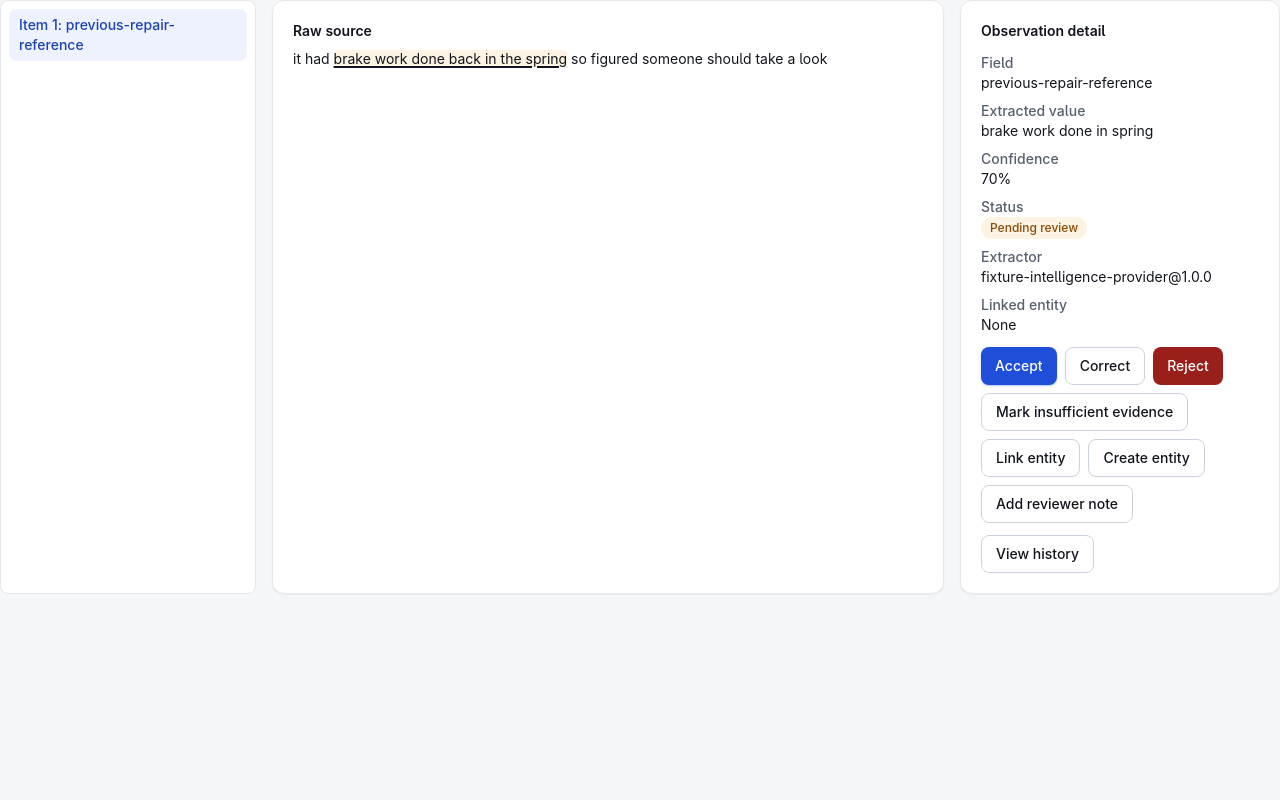
it: ReviewQueuePanel › Link entity searches the workspace's entities and links the selected one without advancing the queue
Click the button "Link entity" at (1031, 458), box [981,439,1080,477]
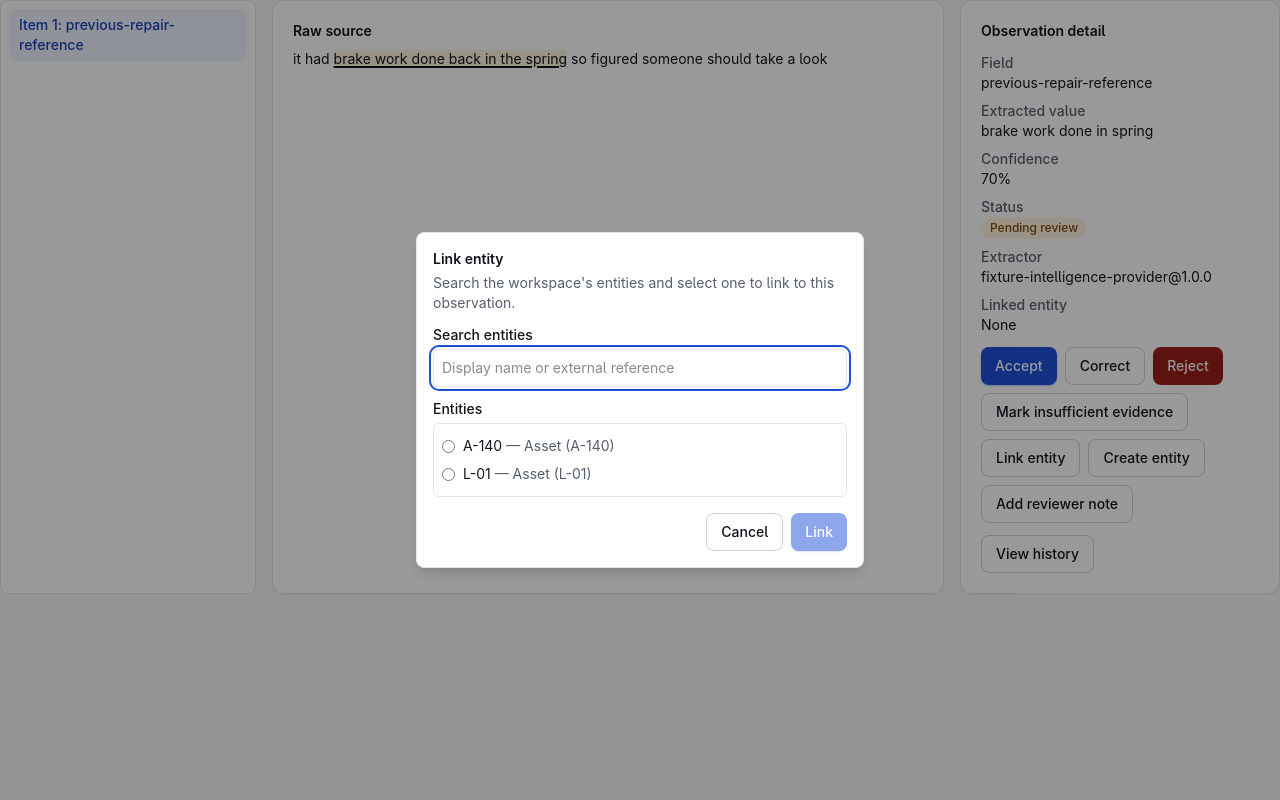
Type "A-140" into the field labelled "Search entities" at (640, 368), box [433,349,847,387]
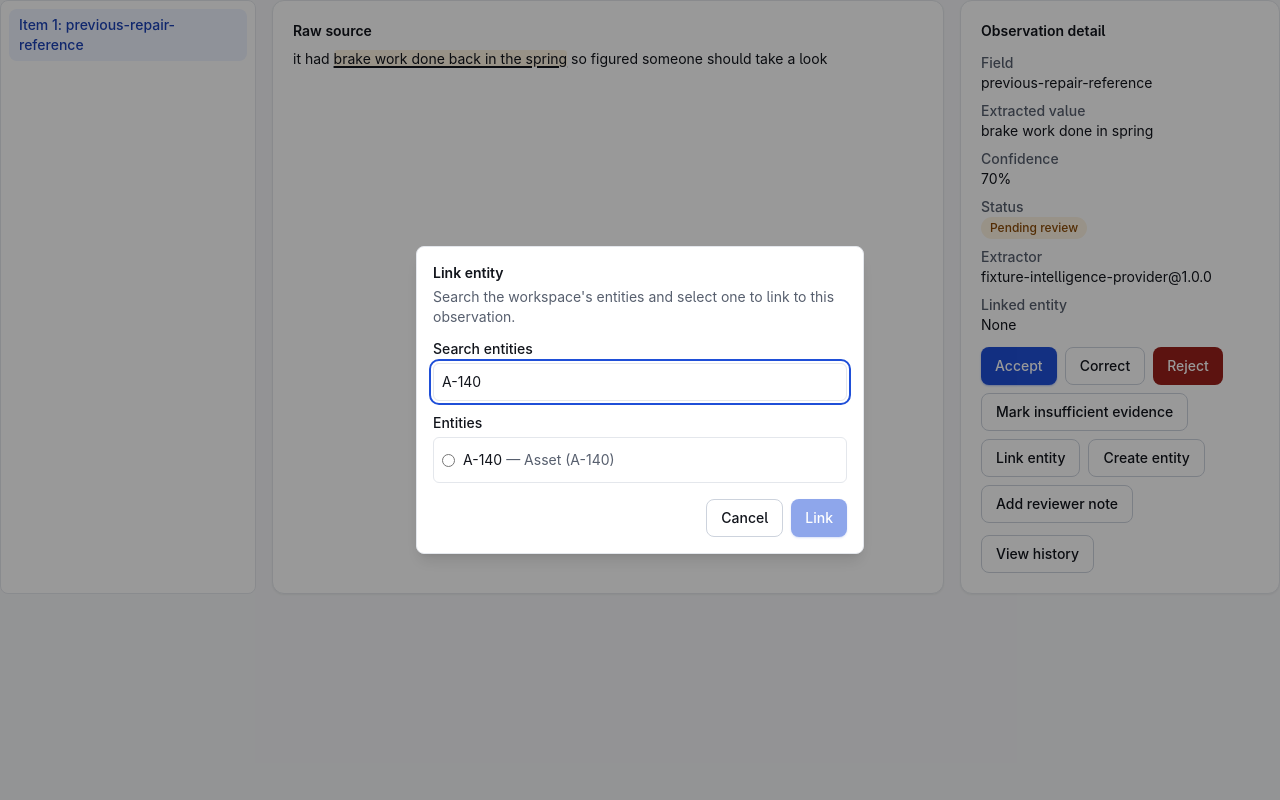
expect the text "L-01" is gone: met
Click the radio button labelled "A-140 — Asset (A-140)" at (448, 460), box [442,454,455,466]
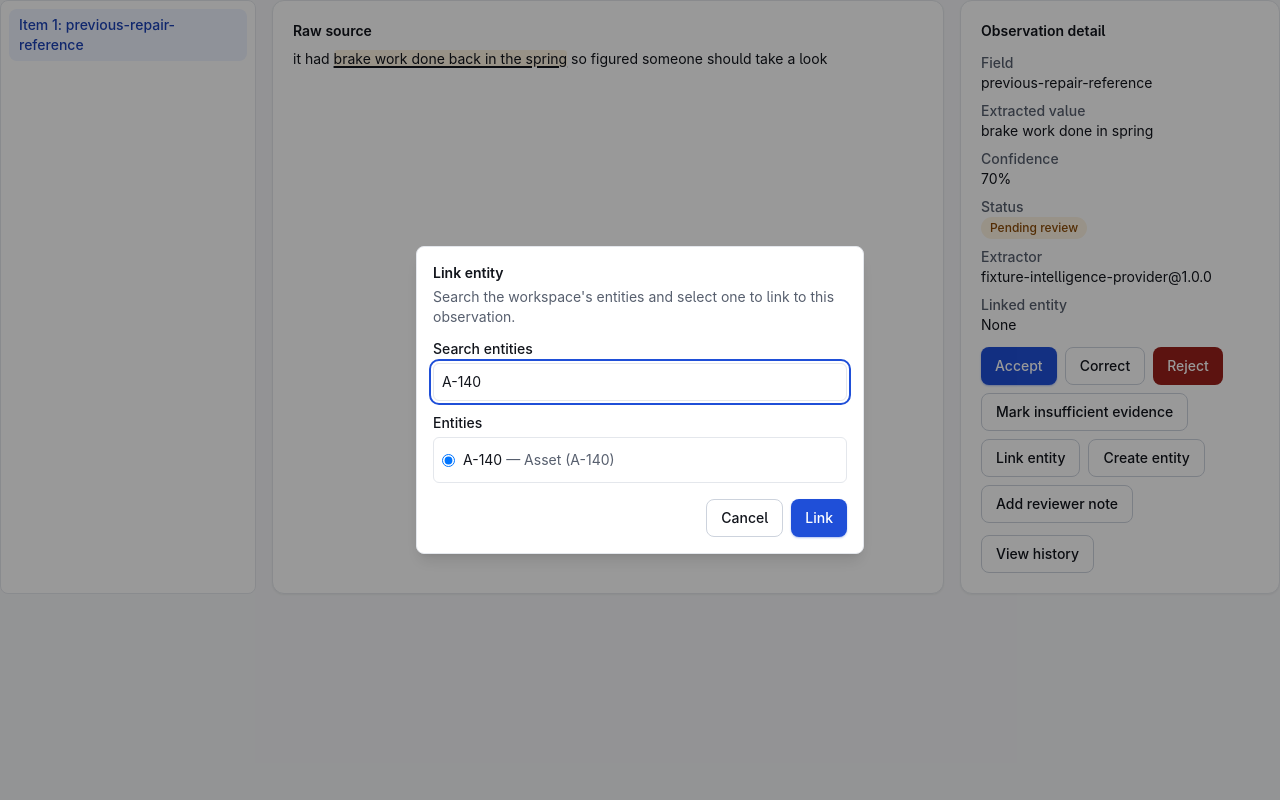
Click the button "Link" at (819, 518), box [791,499,847,537]
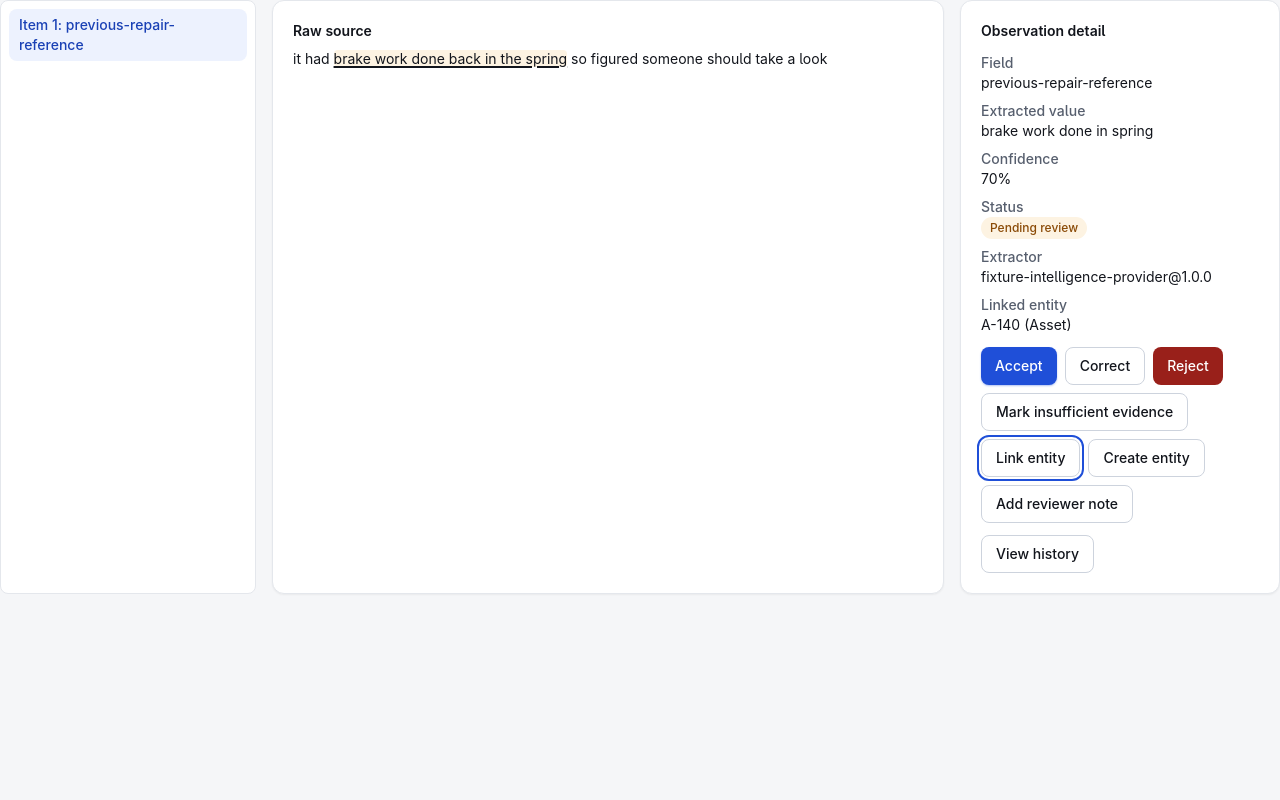
expect the text "previous-repair-reference" is shown: met, box [981,74,1152,91]
expect the dialog is gone: met
expect the text "A-140 (Asset)" is shown: met, box [981,316,1072,333]
